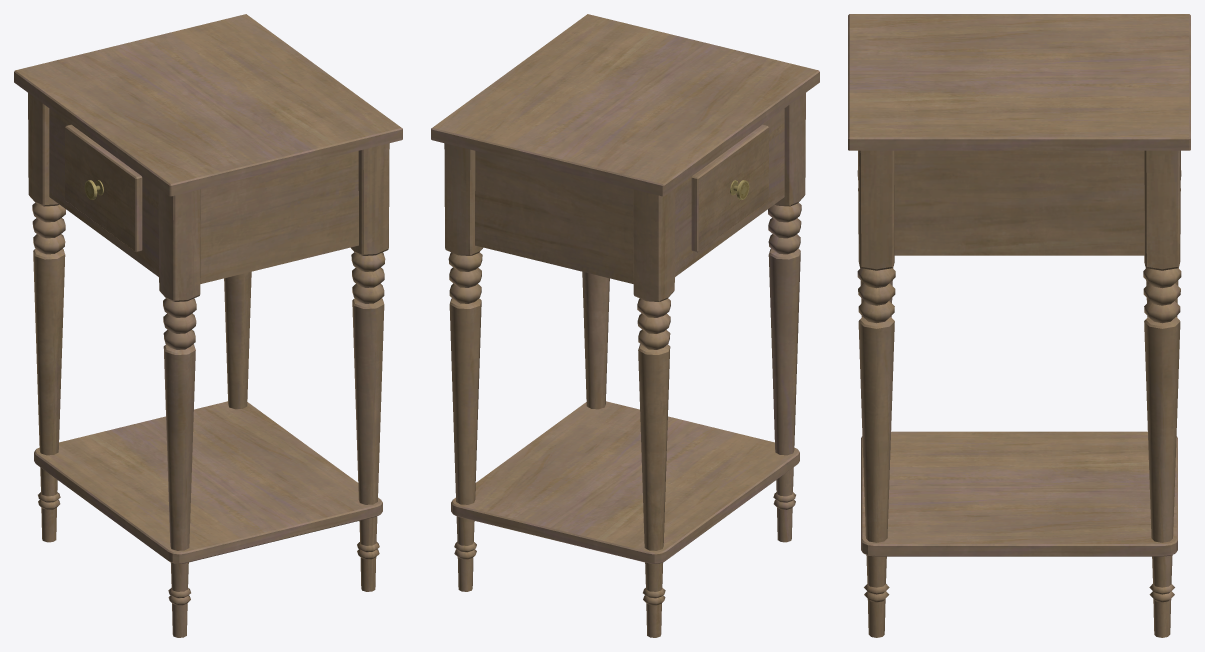
Rendered from bedside_table_2.gltf.
3 renders of one model, left to right at view 1: azimuth 30°, elevation 25°; view 2: azimuth 150°, elevation 25°; view 3: azimuth 270°, elevation 25°, orthographic. The views are drawn at different scales.
Parts seen in each view (by area): view 1: BedsideTable_a; view 2: BedsideTable_a; view 3: BedsideTable_a.
Boxes of the visible parts, x1=… form: BedsideTable_a: x1=14, y1=14, x2=402, y2=637; BedsideTable_a: x1=431, y1=14, x2=819, y2=637; BedsideTable_a: x1=848, y1=14, x2=1190, y2=637.
Size of the model in its own units: 0.3671 by 0.6927 by 0.4232.
Materials: 2 (2 with a texture image).
